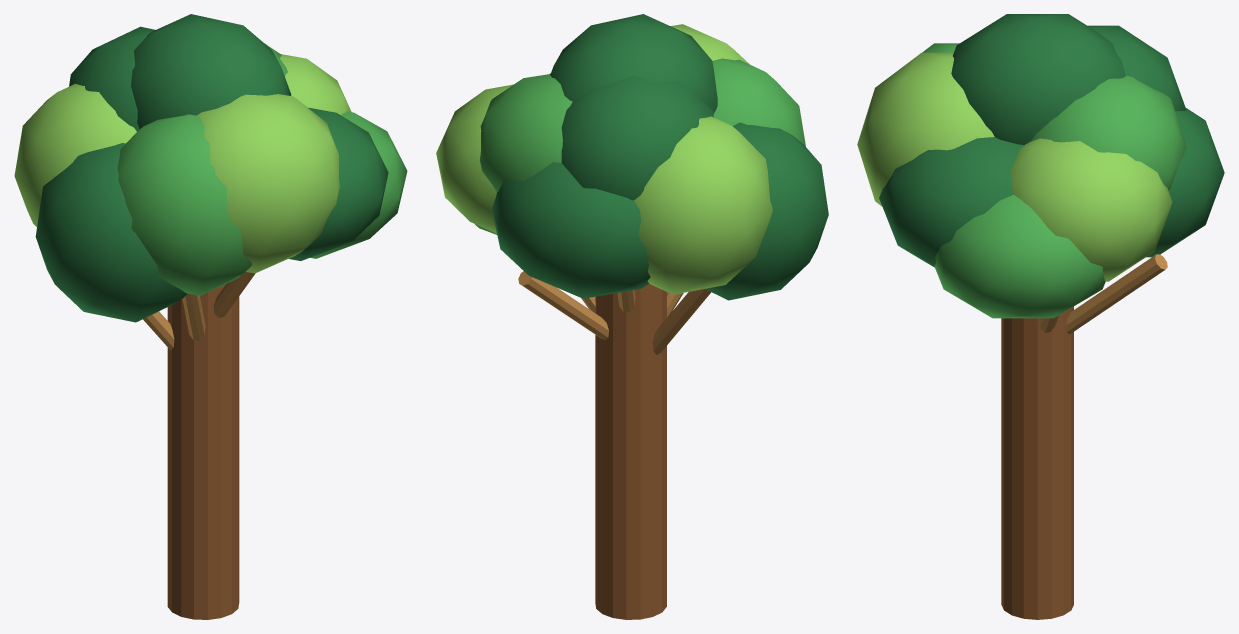
File: LakesideBroadleafDetailed.fbx
The picture shows the model from 3 angles, left to right: view 1: azimuth 30°, elevation 25°; view 2: azimuth 150°, elevation 25°; view 3: azimuth 270°, elevation 25°; orthographic projection.
Visible parts, largest first — view 1: LakesideBroadleafDetailed; view 2: LakesideBroadleafDetailed; view 3: LakesideBroadleafDetailed.
Part boxes in pixels (bbox=[...]): LakesideBroadleafDetailed: bbox=[14, 14, 407, 619]; LakesideBroadleafDetailed: bbox=[436, 14, 828, 619]; LakesideBroadleafDetailed: bbox=[857, 14, 1224, 619].
Size of the model in its own units: 3.35 by 5.33 by 3.03.
